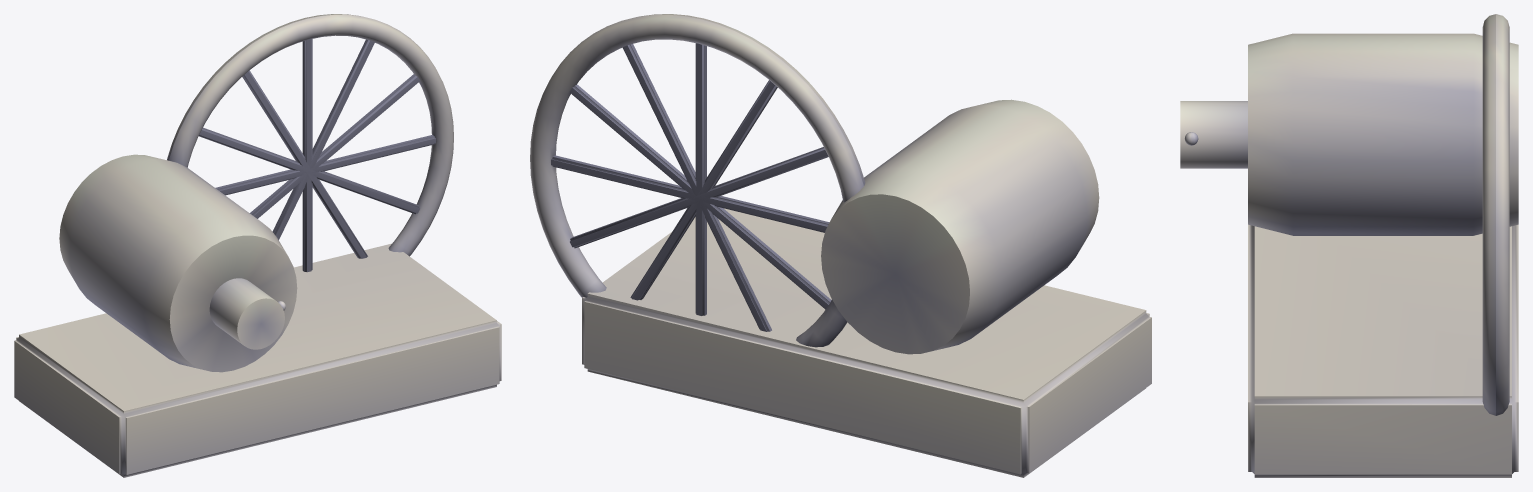
File: dynamo.glb
The picture shows the model from 3 angles, left to right: view 1: azimuth 30°, elevation 25°; view 2: azimuth 150°, elevation 25°; view 3: azimuth 270°, elevation 25°; orthographic projection. The views are drawn at different scales.
Parts seen in each view (by area): view 1: body; view 2: body; view 3: body.
Boxes of the visible parts, box(x1,y1,x2,y2) form: body: box(14, 14, 501, 477); body: box(530, 14, 1151, 477); body: box(1180, 14, 1518, 477).
Bounding box in the file's own units: 2.71 × 1.91 × 1.5.
